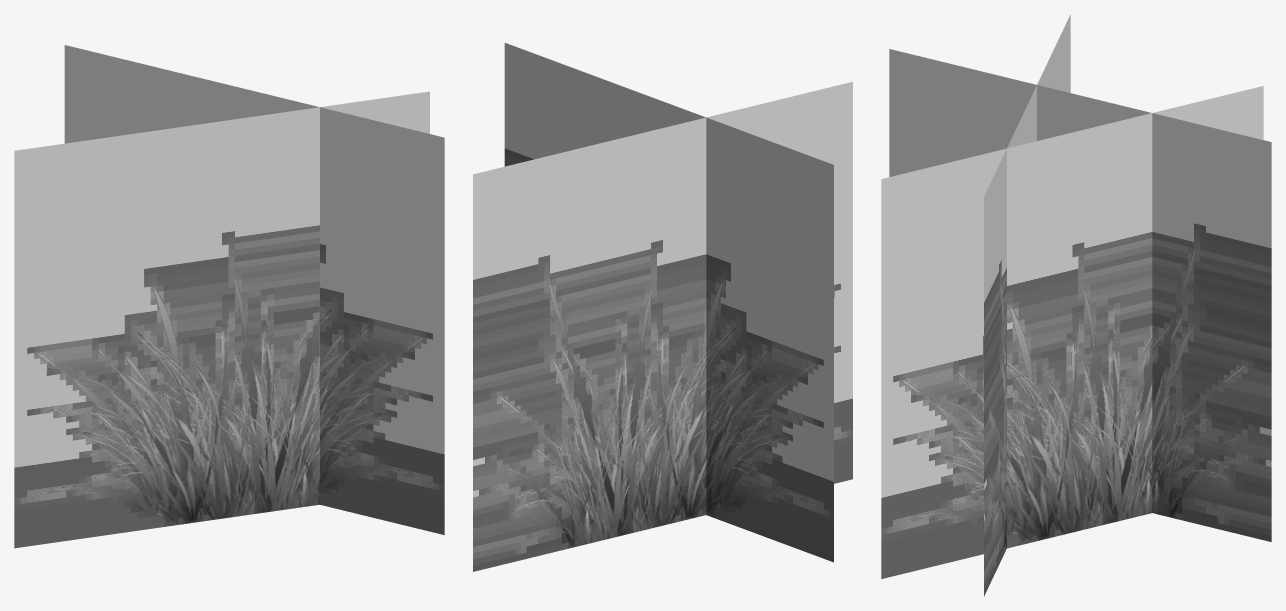
The model's file is grass.glb.
3 views of the same model, side by side, from view 1: azimuth 30°, elevation 25°; view 2: azimuth 150°, elevation 25°; view 3: azimuth 270°, elevation 25° (orthographic).
Visible parts, largest first — view 1: LOD0; view 2: LOD0; view 3: LOD0.
Part boxes in pixels (box(x1,y1,x2,y2)): LOD0: box(14, 45, 444, 548); LOD0: box(473, 43, 852, 571); LOD0: box(881, 14, 1271, 596).
Size of the model in its own units: 1.96 by 2 by 1.77.
1 material, 1 textured.
